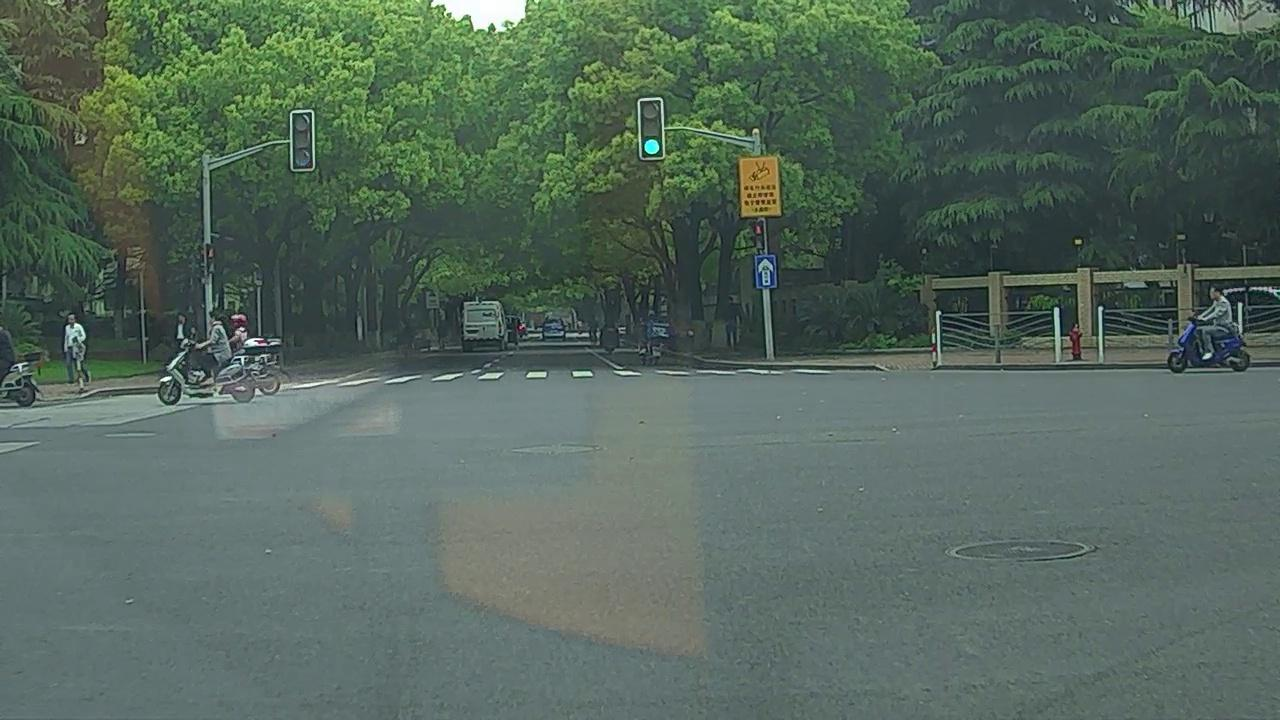traffic_light: (641, 99, 663, 160), (293, 112, 312, 169)
